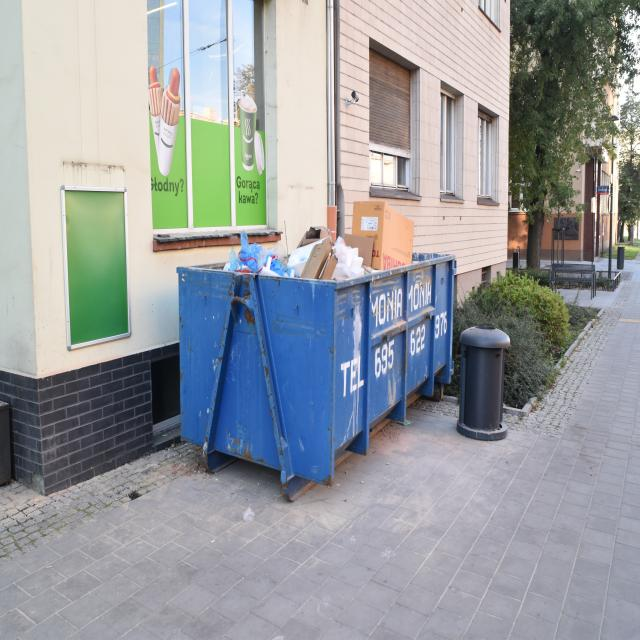lixo domiciliar: (218, 214, 365, 288), (330, 198, 418, 278), (241, 505, 257, 523)
